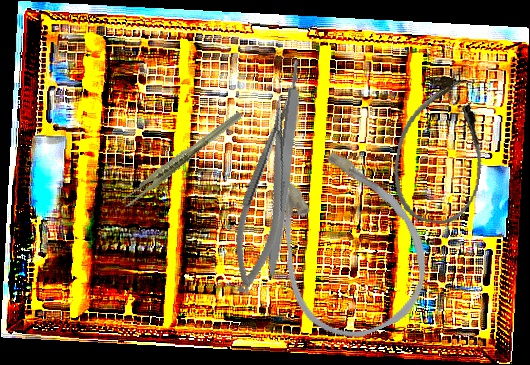Cannula: (242, 122, 449, 356), (385, 70, 497, 230)
Needle Holder: (221, 93, 310, 298)
Scalpel Handle: (265, 59, 307, 282)
Tissue Forceps: (109, 110, 255, 209)
